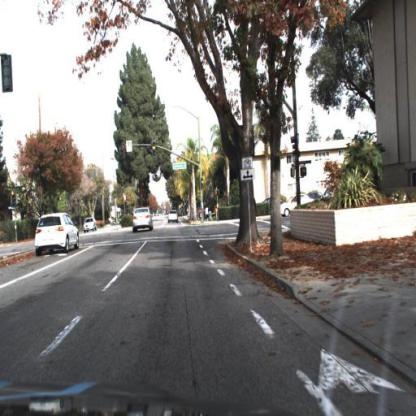car: (34, 211, 81, 257), (131, 205, 155, 234), (280, 194, 300, 219), (83, 217, 99, 234), (168, 208, 180, 225)
pedestrian: (206, 205, 210, 223), (210, 205, 212, 222)
trafficLight-RedLeft: (119, 143, 127, 164), (120, 142, 127, 163)
trafficLight-Yellow: (151, 139, 160, 160), (198, 174, 208, 190), (150, 141, 157, 159), (200, 176, 206, 194)
